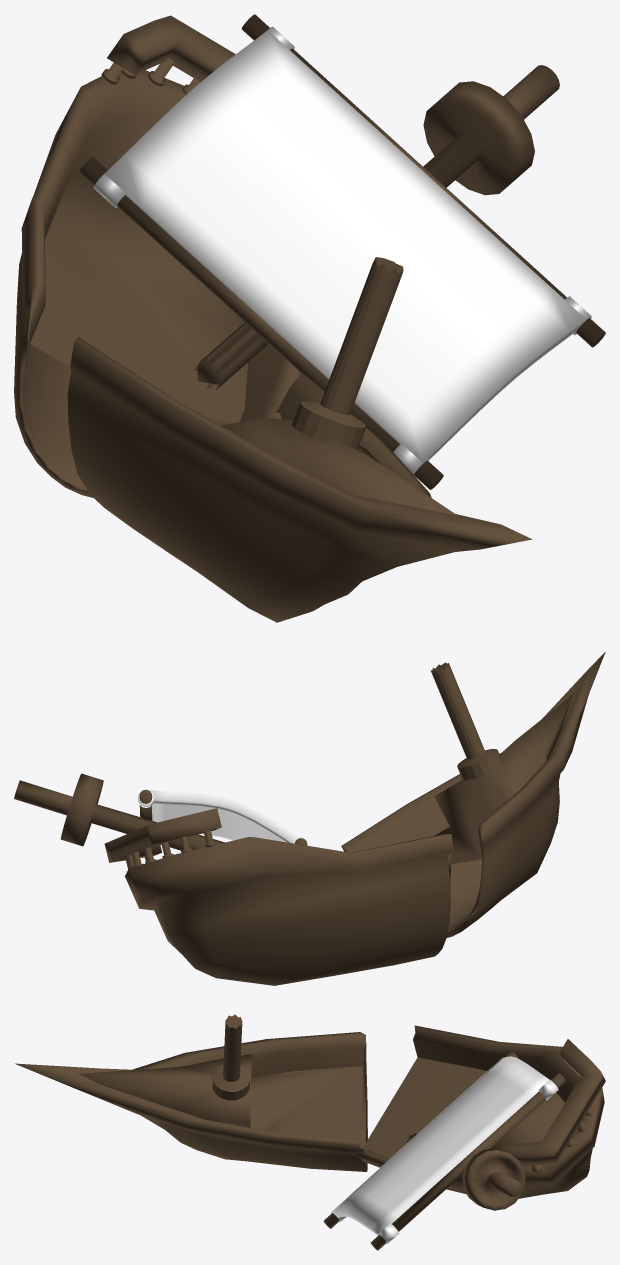
File: Barco_2.fbx
The picture shows the model from 3 angles, top to bottom: view 1: azimuth 30°, elevation 25°; view 2: azimuth 150°, elevation 25°; view 3: azimuth 270°, elevation 25°; orthographic projection. The views are drawn at different scales.
Parts seen in each view (by area): view 1: Sphere.004, Sphere.001, Sphere.002, Sphere.003; view 2: Sphere.002, Sphere.001, Sphere.004, Sphere.003; view 3: Sphere.001, Sphere.002, Sphere.004, Sphere.003.
Part boxes in pixels (box(x1,y1,x2,y2)): Sphere.004: box(79, 14, 605, 489); Sphere.001: box(67, 337, 532, 622); Sphere.002: box(14, 15, 300, 497); Sphere.003: box(292, 257, 403, 449); Sphere.002: box(104, 808, 453, 985); Sphere.001: box(341, 651, 605, 937); Sphere.004: box(14, 773, 309, 850); Sphere.003: box(430, 662, 503, 780); Sphere.001: box(15, 1032, 367, 1171); Sphere.002: box(355, 1025, 605, 1198); Sphere.004: box(323, 1051, 566, 1250); Sphere.003: box(212, 1014, 250, 1100).
Size of the model in its own units: 2344 by 1179 by 3587.
